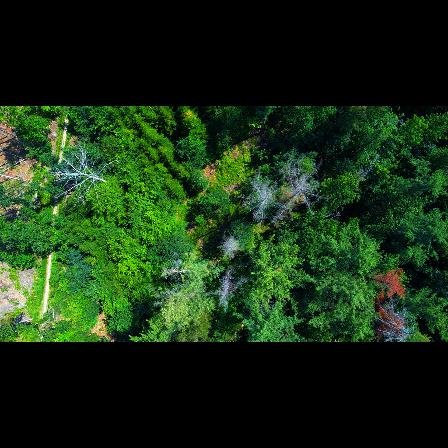Dead: (52, 148, 116, 206), (281, 157, 331, 216), (368, 292, 424, 342), (206, 267, 252, 313), (241, 172, 284, 220), (213, 231, 243, 264)
